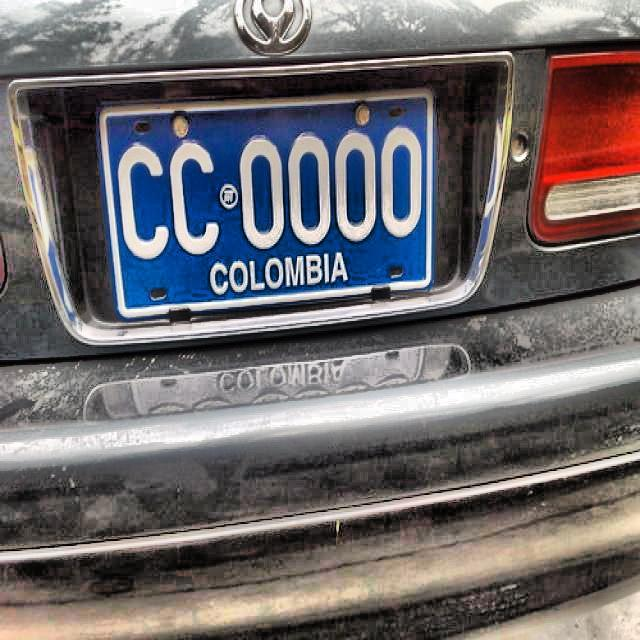plate: (103, 94, 433, 313)
